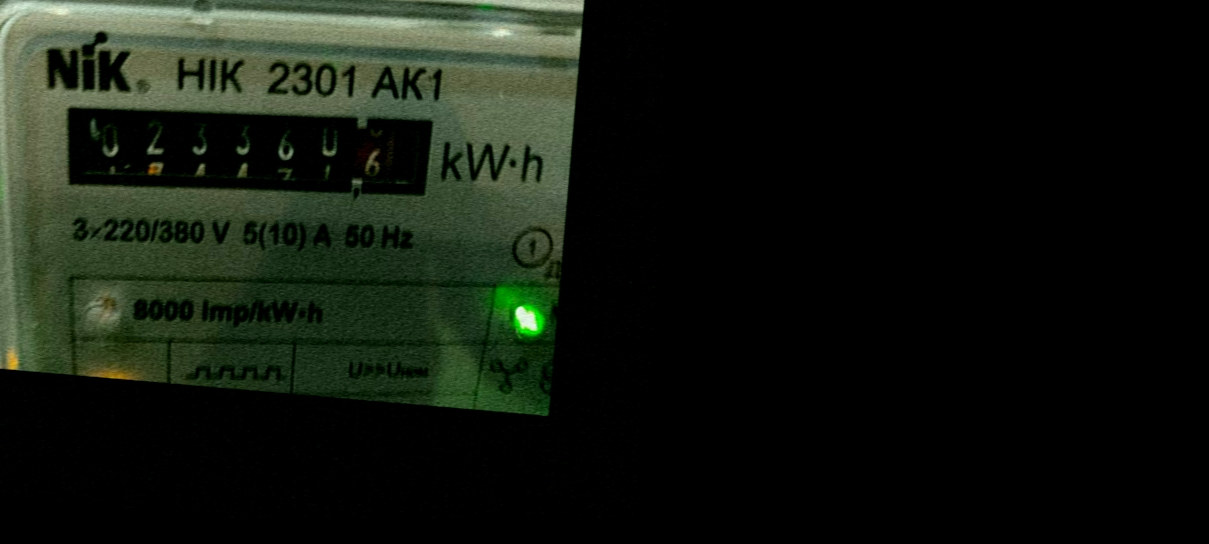0: (96, 117, 124, 161), (316, 121, 343, 159)
2: (140, 115, 169, 157)
3: (229, 118, 254, 158), (187, 117, 211, 158)
6: (271, 122, 300, 165), (362, 144, 386, 181)
screen: (39, 73, 448, 225)
